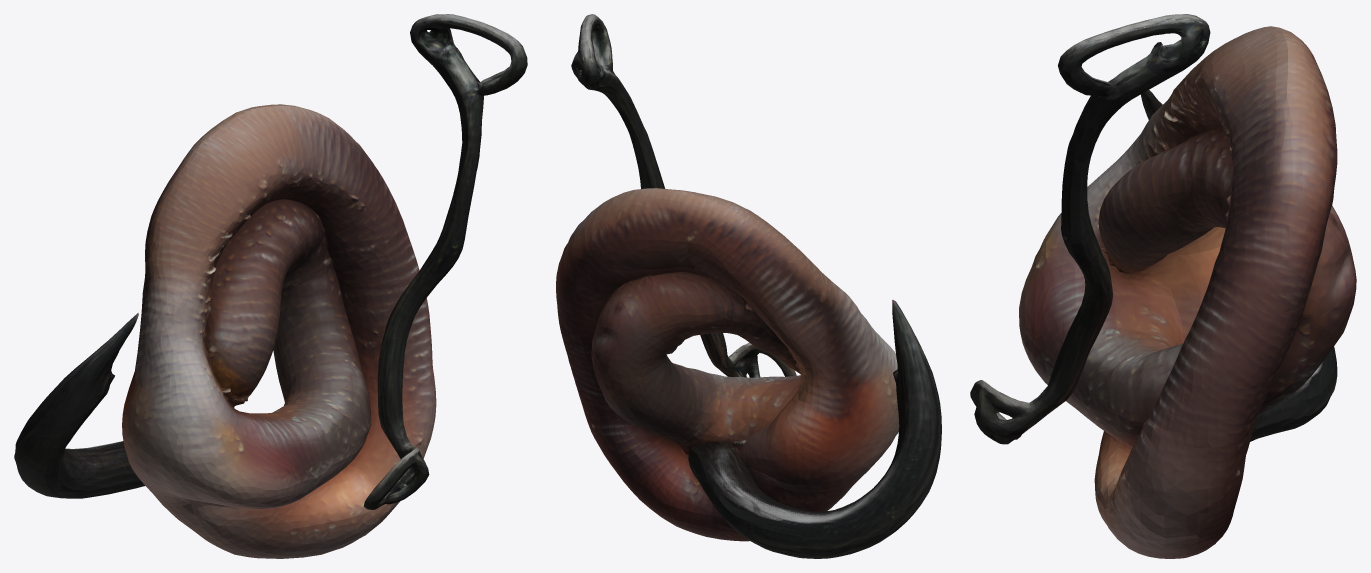
The model's file is earthworm_bait.glb.
3 renders of one model, left to right at view 1: azimuth 30°, elevation 25°; view 2: azimuth 150°, elevation 25°; view 3: azimuth 270°, elevation 25°, orthographic. The views are drawn at different scales.
Parts seen in each view (by area): view 1: geometry_0; view 2: geometry_0; view 3: geometry_0.
Boxes of the visible parts, x1=… form: geometry_0: x1=14, y1=14, x2=527, y2=558; geometry_0: x1=556, y1=14, x2=941, y2=558; geometry_0: x1=970, y1=14, x2=1356, y2=558.
Bounding box in the file's own units: 0.9249 × 0.9998 × 0.5741.
1 material, 1 textured.
